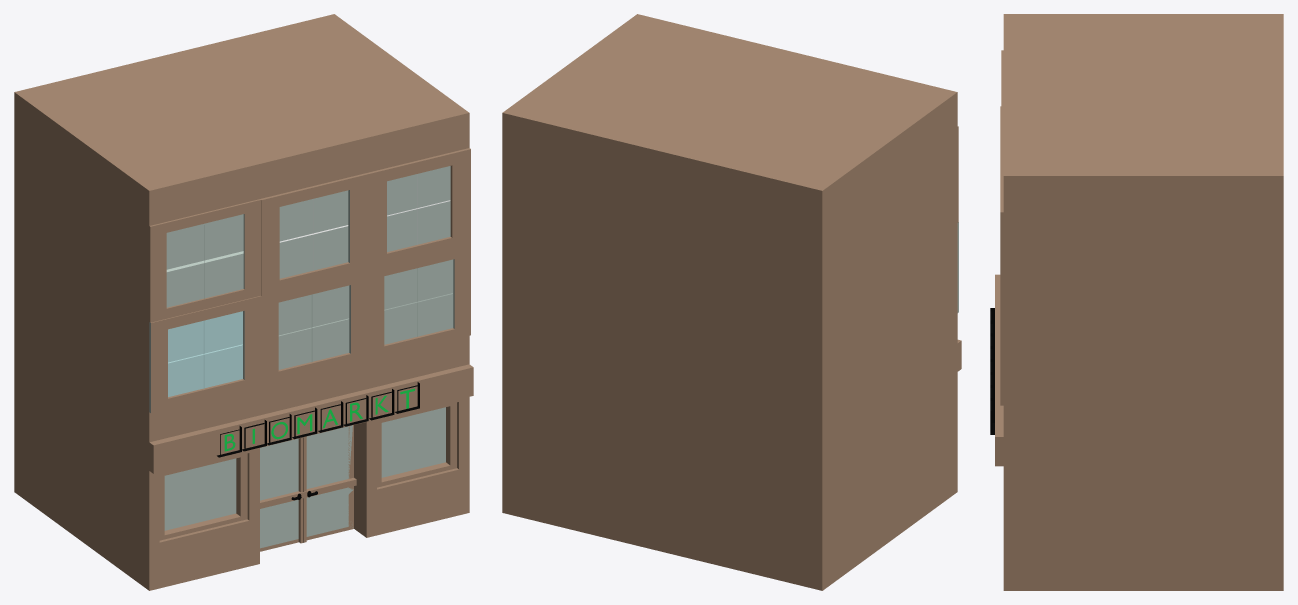
The model's file is biomarkt.fbx.
The picture shows the model from 3 angles, left to right: view 1: azimuth 30°, elevation 25°; view 2: azimuth 150°, elevation 25°; view 3: azimuth 270°, elevation 25°; orthographic projection. The views are drawn at different scales.
Parts seen in each view (by area): view 1: Plane.004, Plane.010, Plane.001, Plane.007, Plane.002, Plane.006, Plane.005, Plane.003, Plane.008, Plane.009, Cube.001, Cube; view 2: Plane.004; view 3: Plane.004.
Boxes of the visible parts, <box> form: Plane.004: <box>14,14,473,590</box>; Plane.010: <box>260,425,353,548</box>; Plane.001: <box>166,214,243,307</box>; Plane.007: <box>168,311,242,396</box>; Plane.002: <box>279,190,348,278</box>; Plane.006: <box>278,285,349,369</box>; Plane.005: <box>384,259,453,344</box>; Plane.003: <box>387,166,450,251</box>; Plane.008: <box>164,458,236,530</box>; Plane.009: <box>381,407,445,477</box>; Cube.001: <box>298,436,306,543</box>; Cube: <box>260,478,356,508</box>; Plane.004: <box>502,14,961,590</box>; Plane.004: <box>995,14,1283,590</box>.
Size of the model in its own units: 674 by 805 by 516.
